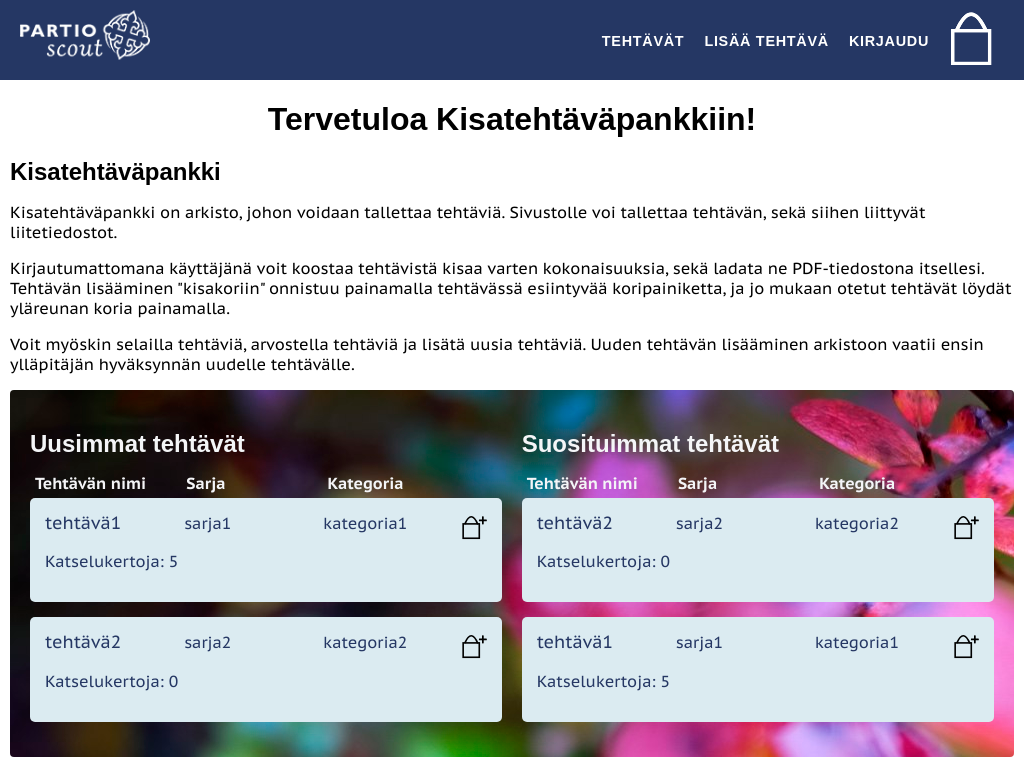
Test: <App /> › clicking icon adds task to basket
Expected: the element with class "white-basket" does not show "1", [949,10,994,65]
Click the 1st element with class "black-basket" at (477, 533), box [462,515,492,550]
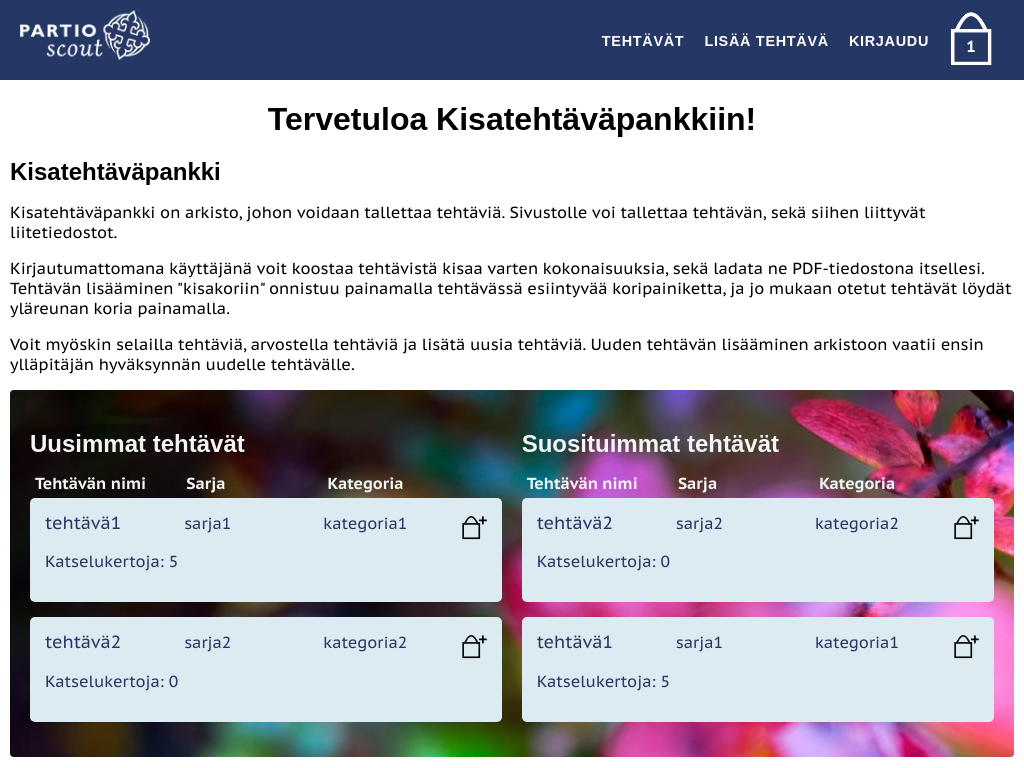
Expected: the element with class "white-basket" reads "1", [966,36,976,56]
